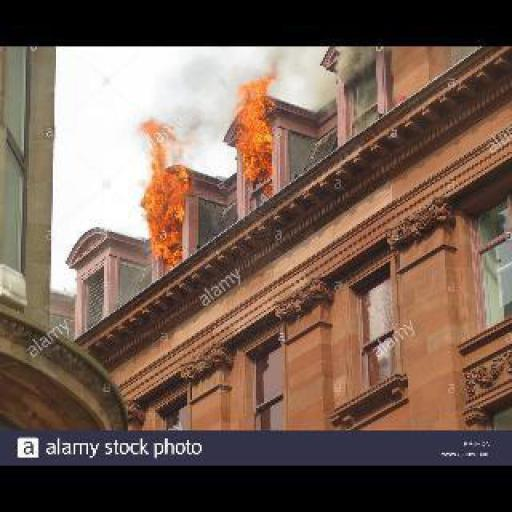smoke: (125, 96, 203, 272), (224, 80, 290, 190)
